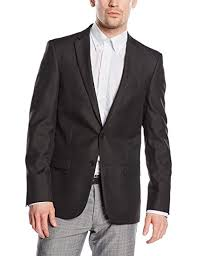F_M_suit jacket: (20, 22, 178, 232)
